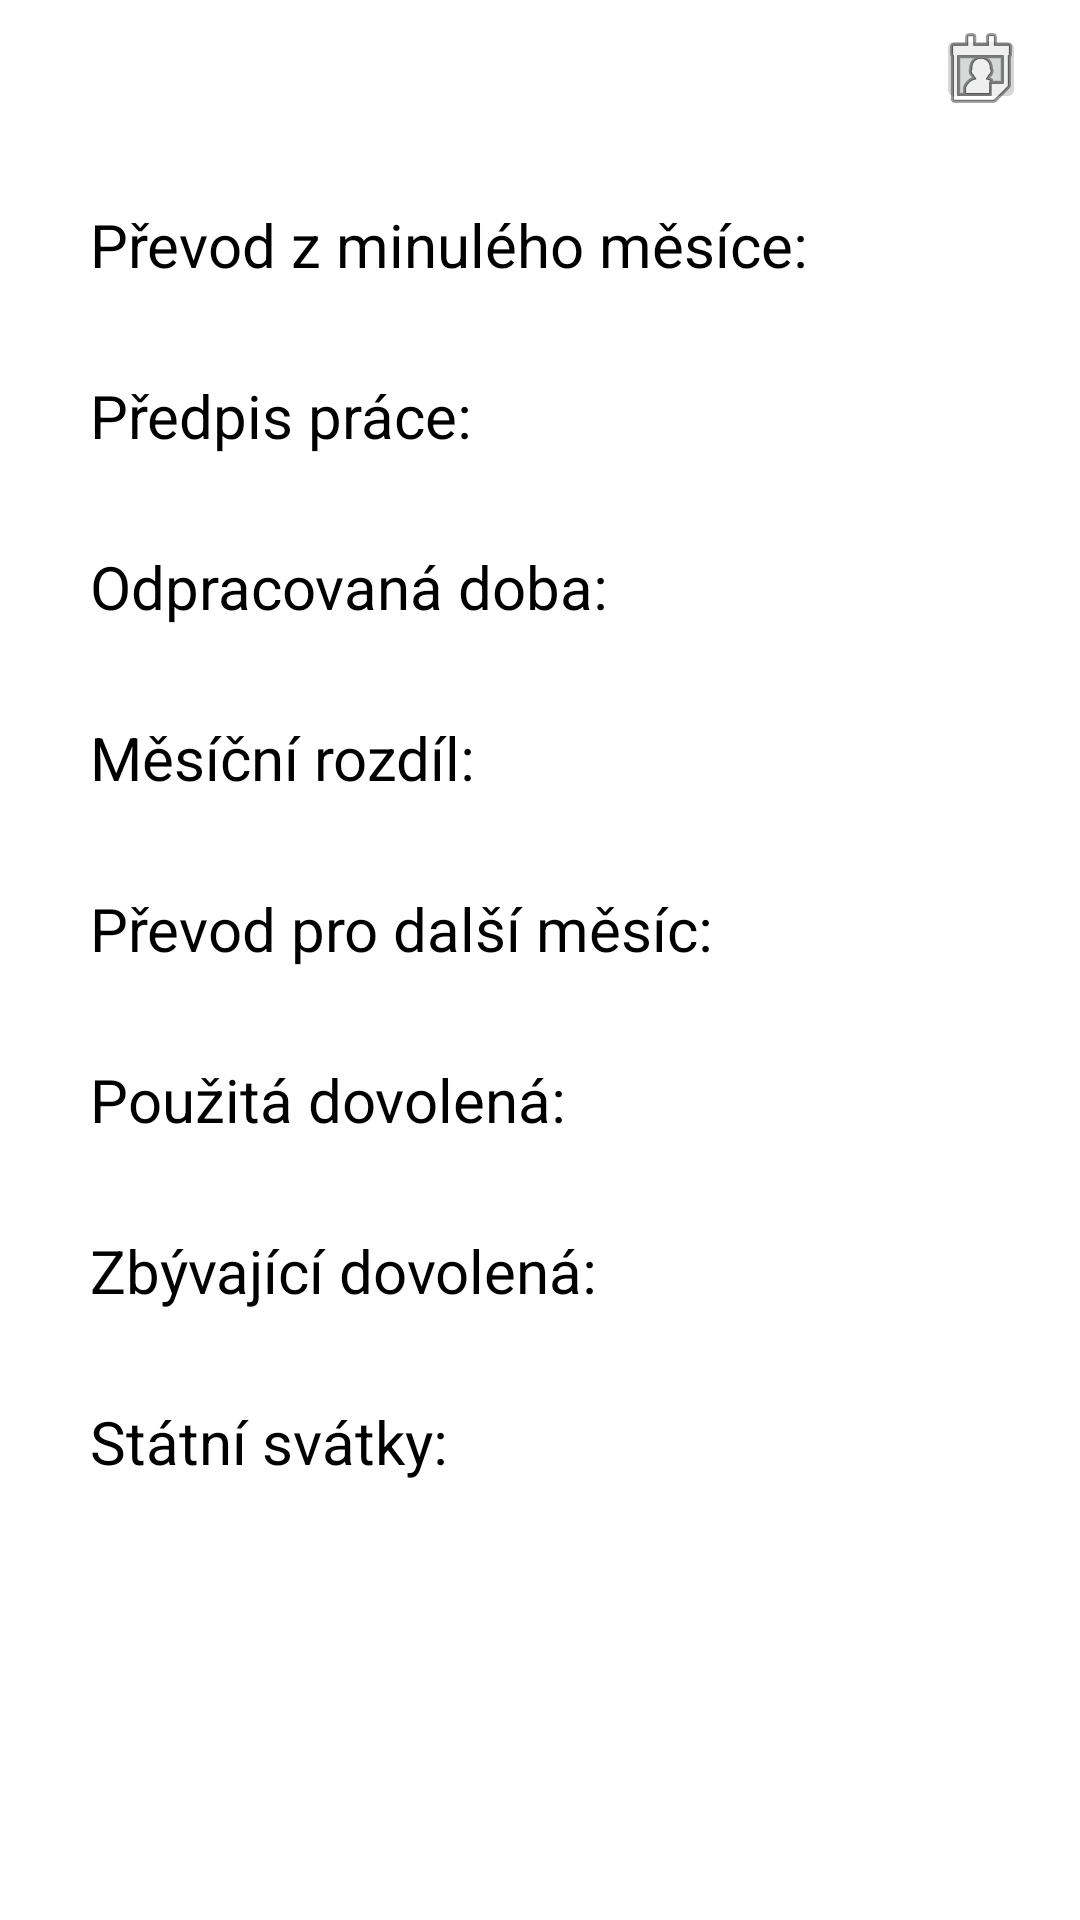

Where icons sit on this 1080px×1920px app screen, as (x1,y1,x2,y2):
calendar: (948,33,1014,103)
